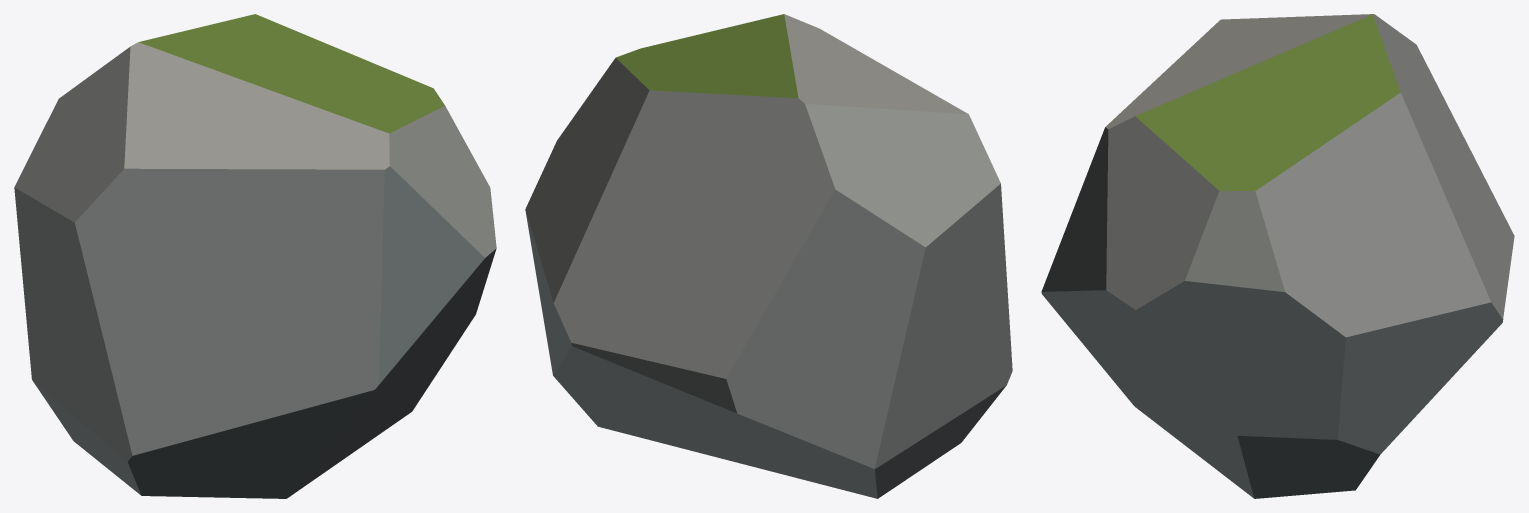
The model's file is wild_pz_rock_13.glb.
The picture shows the model from 3 angles, left to right: view 1: azimuth 30°, elevation 25°; view 2: azimuth 150°, elevation 25°; view 3: azimuth 270°, elevation 25°; orthographic projection. The views are drawn at different scales.
Parts seen in each view (by area): view 1: pg_rock6_13; view 2: pg_rock6_13; view 3: pg_rock6_13.
Part boxes in pixels (left/top/right/bottom): pg_rock6_13: left=14, top=14, right=496, bottom=498; pg_rock6_13: left=525, top=14, right=1012, bottom=498; pg_rock6_13: left=1041, top=14, right=1514, bottom=498.
Bounding box in the file's own units: 0.9267 × 0.8186 × 0.9249.
